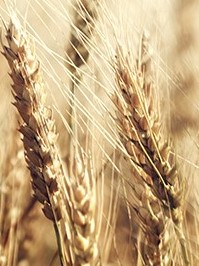Healthy Wheat: (8, 28, 68, 212)
